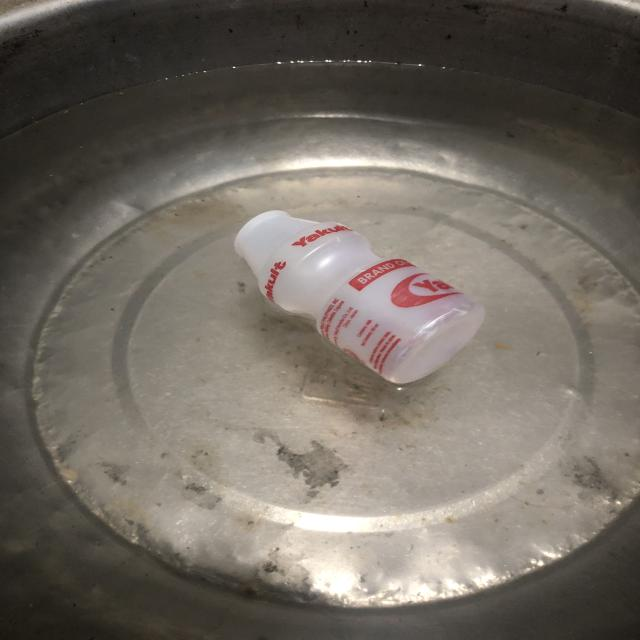Plastic Bottle: (225, 198, 478, 390)
